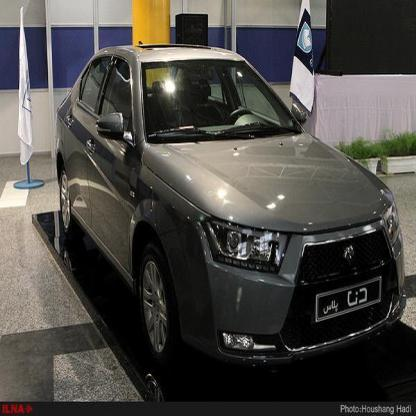Car: (53, 43, 402, 391)
